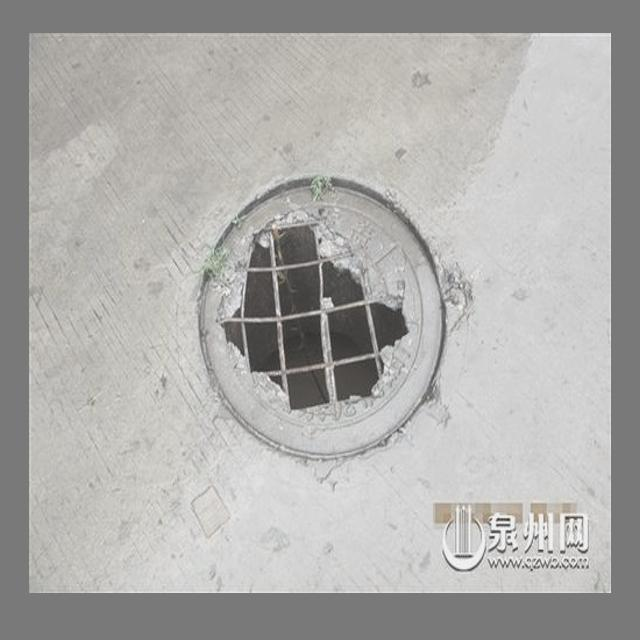broke: (169, 155, 482, 488)
